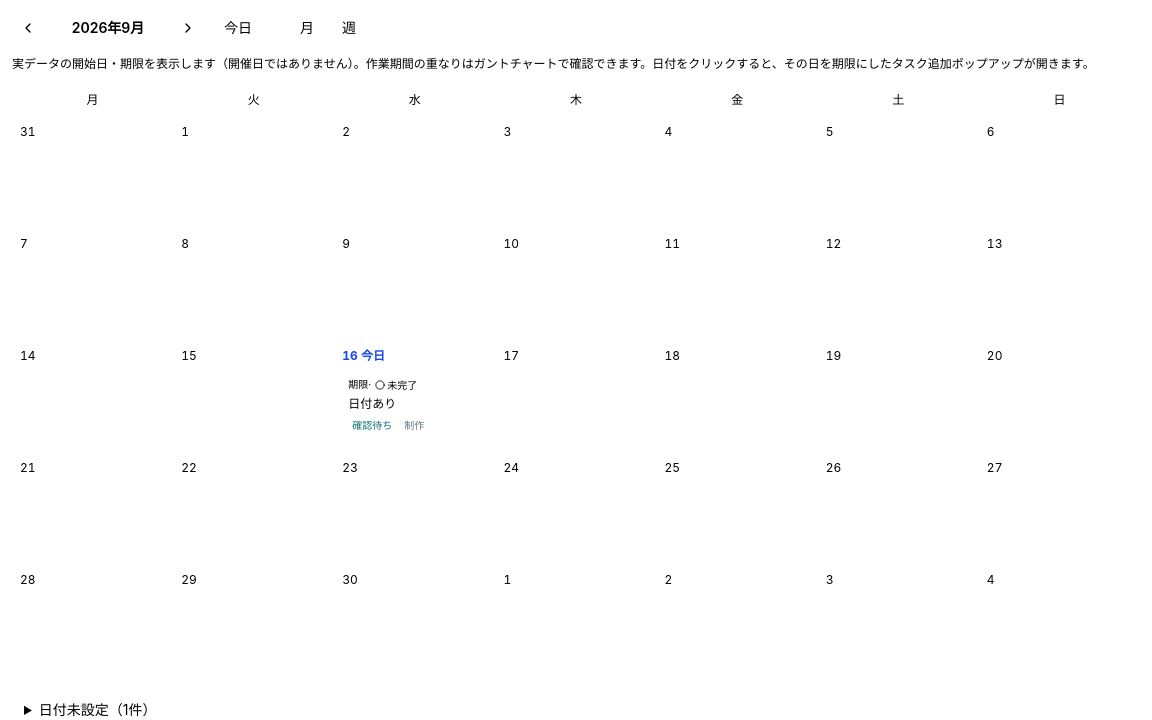
Test: hides the Moai badge while retaining other labels and tags in calendar entries and undated tasks
Expected: the text "確認待ち" is shown, [352,418,392,430]
Expected: the text "制作" is shown, [404,418,424,430]
Click the heading "日付未設定（1件）" at (98,710), box [39,701,156,718]
(page scrolled)
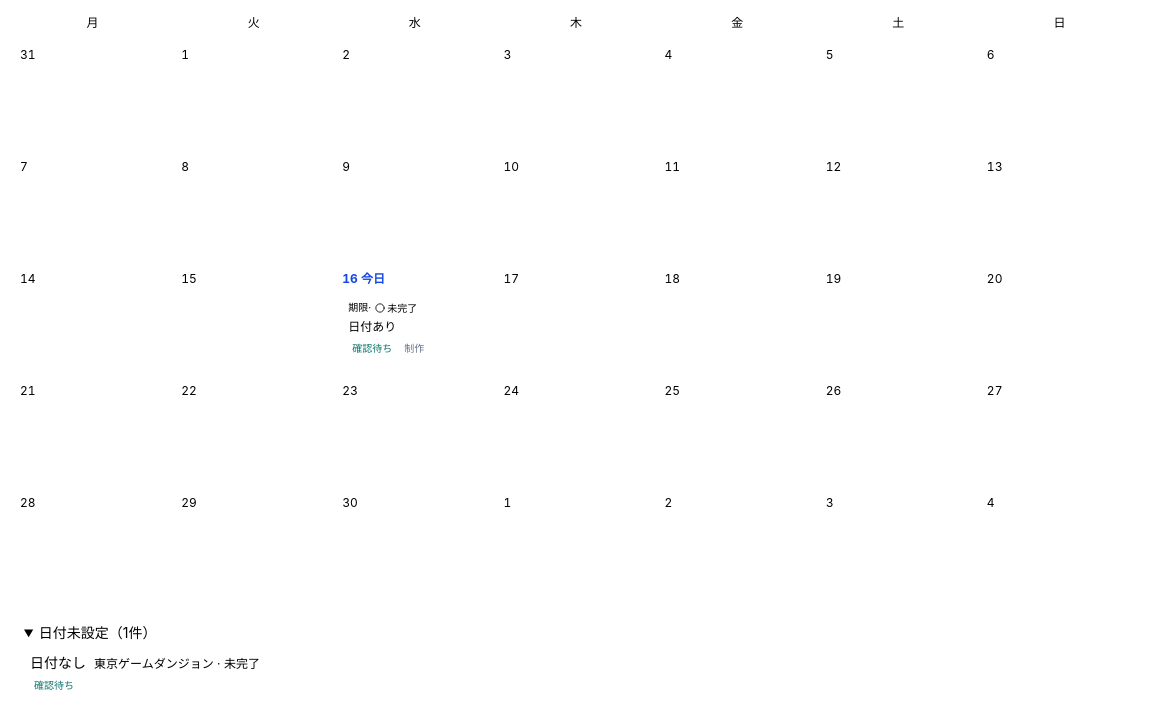
Expected: the text "確認待ち" below "日付未設定（" is shown, [34,679,74,691]
